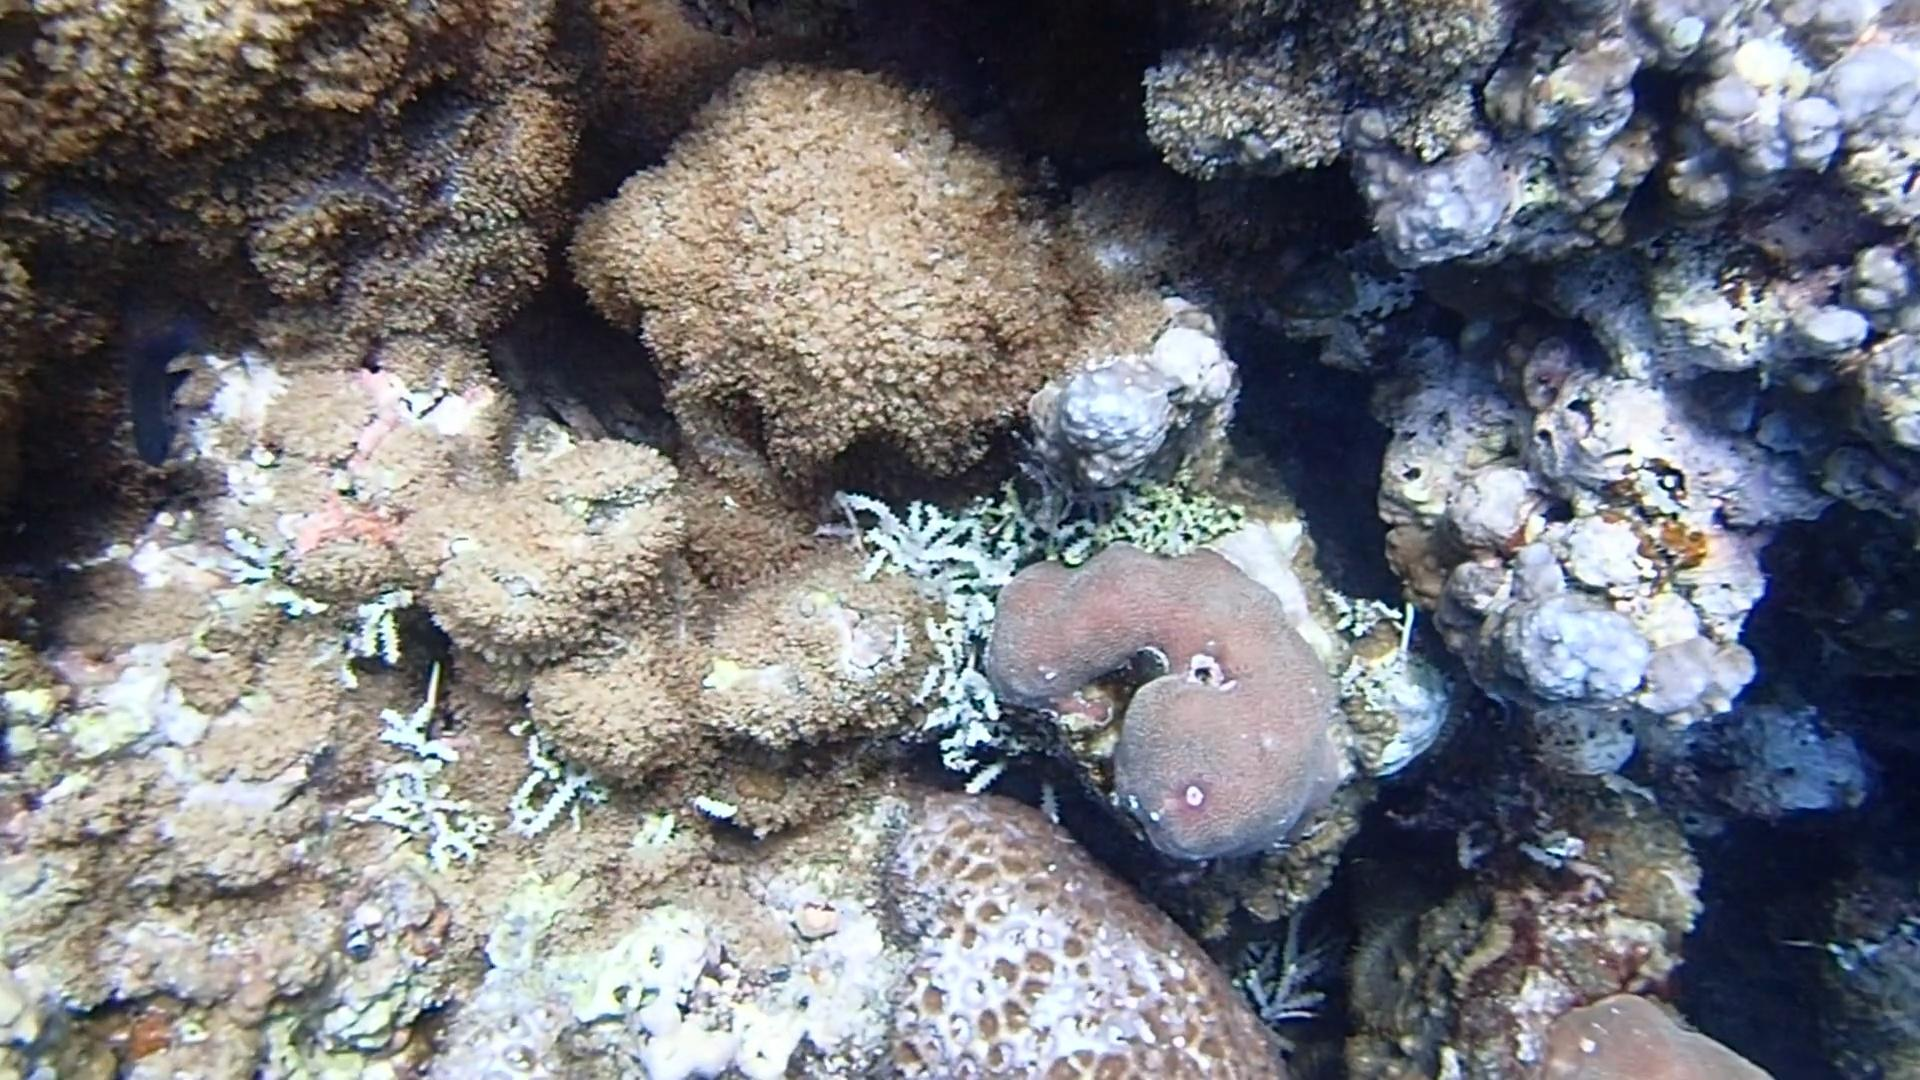Dark Fish: (120, 307, 196, 481)
